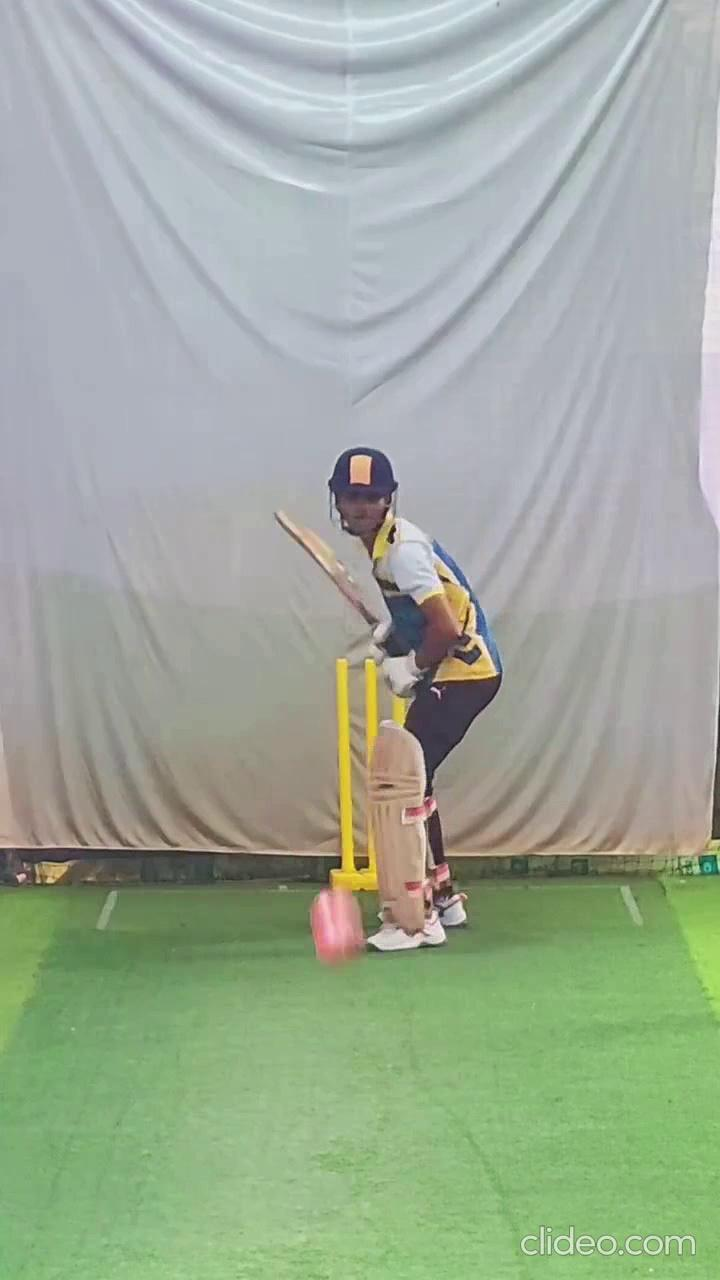bat: (269, 494, 384, 638)
